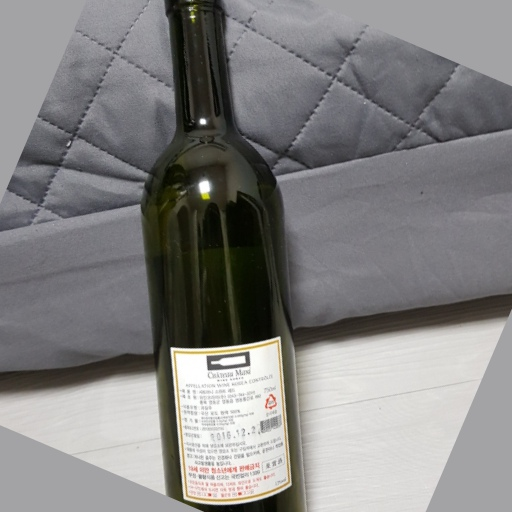Glass_2: (140, 2, 310, 512)
